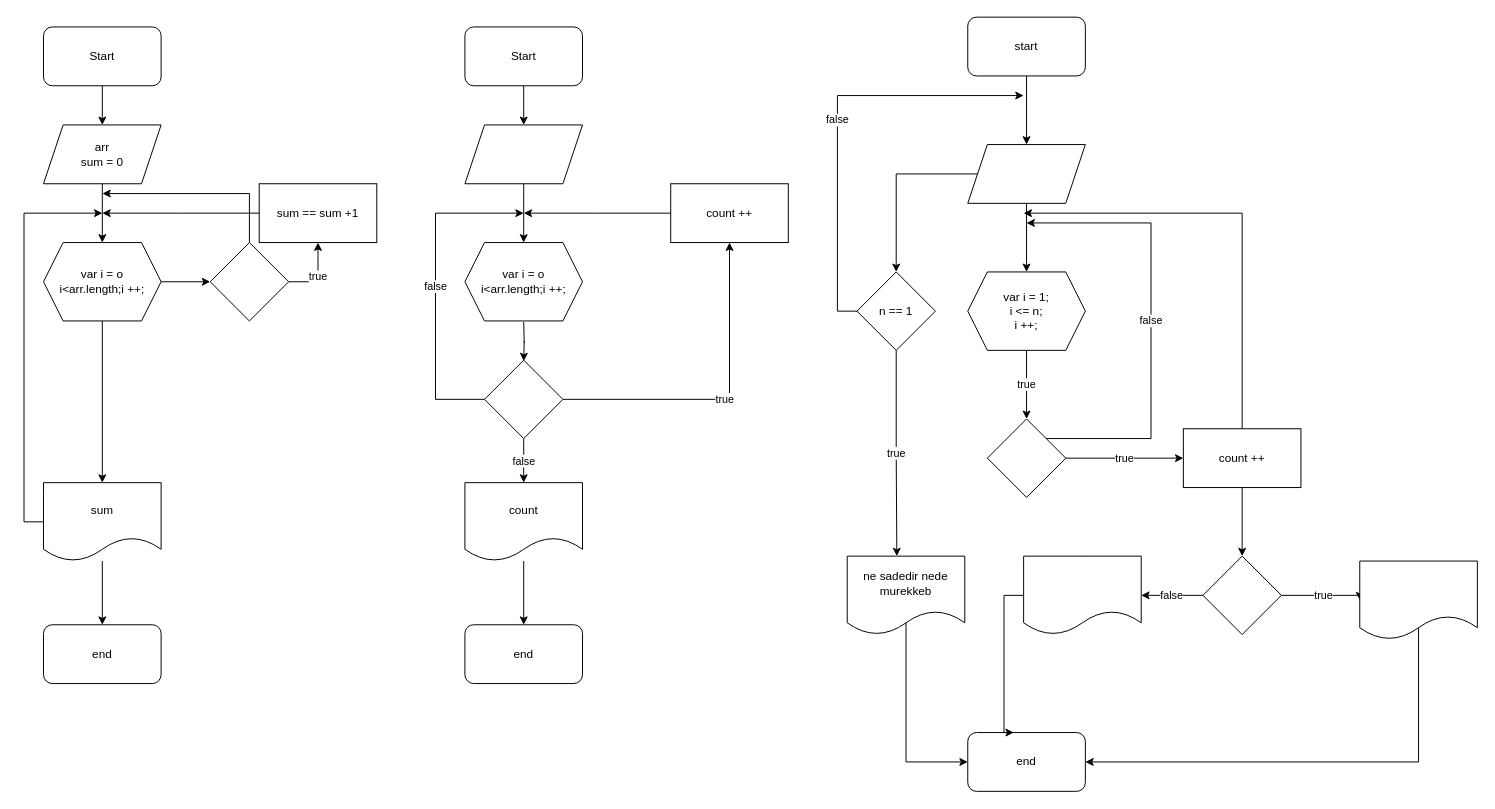
Image size: 1495x809. Some labels were removed from this diagram. Here are the shapes that lost their labels. From the top down, the centre of each, then its label:
At (523,154): "arr count = 0".
At (1026,173): "n count = 0".
At (249,281): "[i]%2 == 1".
At (523,399): "i % 2 == 0".
At (1026,457): "n % i == 0".
At (1082,595): "murekkebdir".
At (1241,595): "count == 2".
At (1418,599): "sadedir".
